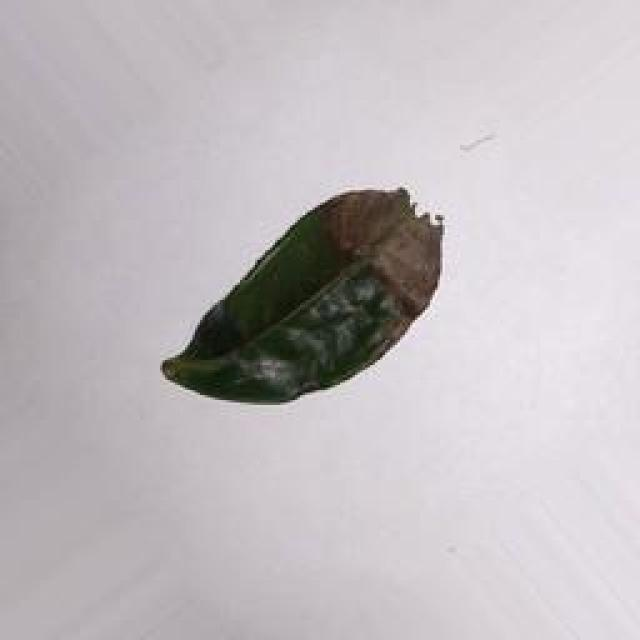Brown Blight: (154, 189, 462, 420)
